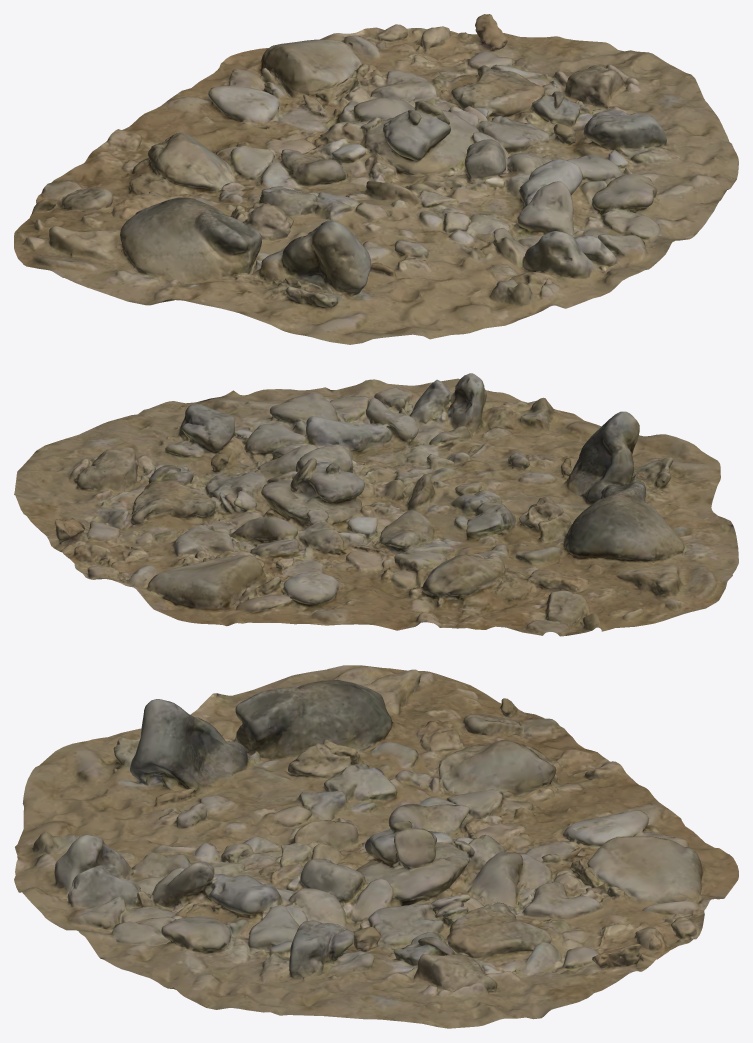
The model's file is sand_rocks_small_01.glb.
The picture shows the model from 3 angles, top to bottom: view 1: azimuth 30°, elevation 25°; view 2: azimuth 150°, elevation 25°; view 3: azimuth 270°, elevation 25°; orthographic projection. The views are drawn at different scales.
Visible parts, largest first — view 1: sand_rocks_small_01_LOD0; view 2: sand_rocks_small_01_LOD0; view 3: sand_rocks_small_01_LOD0.
Boxes of the visible parts, box(x1,y1,x2,y2) form: sand_rocks_small_01_LOD0: box(14, 14, 738, 344); sand_rocks_small_01_LOD0: box(14, 373, 738, 636); sand_rocks_small_01_LOD0: box(14, 665, 738, 1028).
Bounding box in the file's own units: 4.63 × 0.5349 × 3.88.
1 material, 1 textured.
